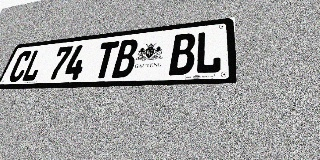4: (62, 44, 90, 80)
7: (46, 46, 73, 81)
B: (168, 33, 196, 75), (111, 39, 139, 78)
C: (7, 50, 33, 82)
L: (194, 30, 222, 74), (20, 49, 47, 82)
T: (92, 41, 119, 79)
